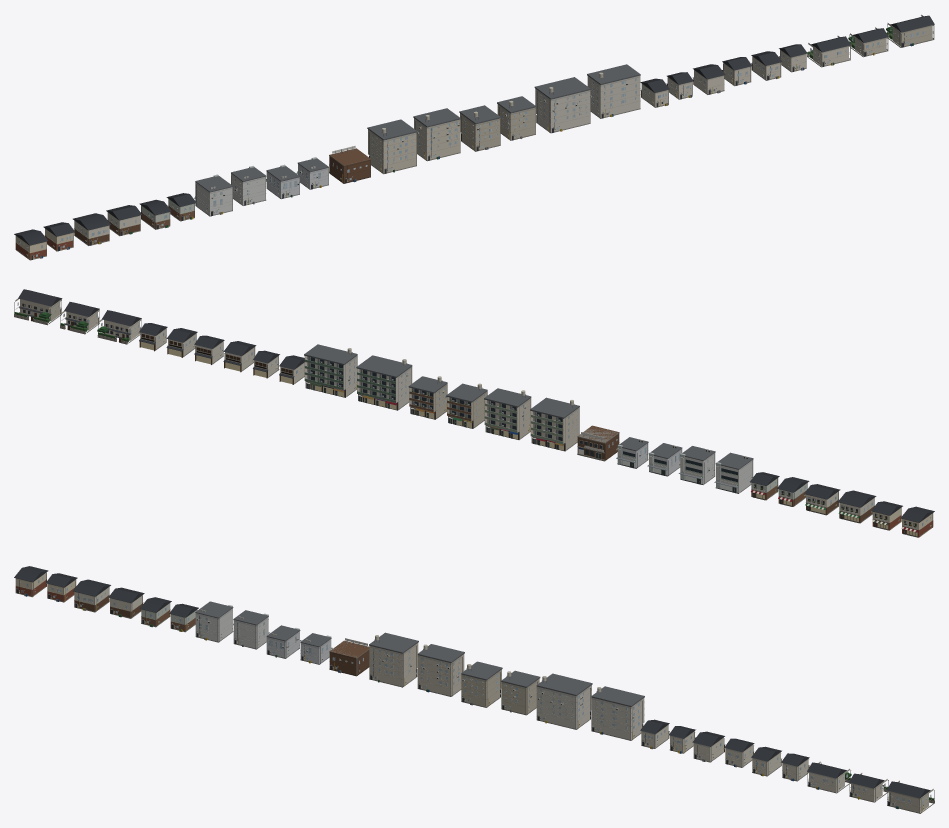
The model's file is aobafront.glb.
The picture shows the model from 3 angles, top to bottom: view 1: azimuth 30°, elevation 25°; view 2: azimuth 150°, elevation 25°; view 3: azimuth 330°, elevation 25°; orthographic projection.
Parts seen in each view (by area): view 1: aobafront_manshon_c_body, aobafront_manshon_c_p_body, aobafront_manshon_a_body, aobafront_manshon_a_p_body, aobafront_manshon_b_body, aobafront_manshon_b_p_body, aobafront_clinic_a_body, aobafront_kinko_a_body, aobafront_yashiki_c_body, aobafront_clinic_a_p_body, aobafront_yashiki_a_body, aobafront_pan_b_body (+14 smaller); view 2: aobafront_manshon_c_body, aobafront_manshon_c_p_body, aobafront_manshon_a_body, aobafront_manshon_a_p_body, aobafront_manshon_b_body, aobafront_manshon_b_p_body, aobafront_clinic_a_body, aobafront_yashiki_c_body, aobafront_kinko_a_body, aobafront_clinic_a_p_body, aobafront_yashiki_a_body, aobafront_pan_b_body (+14 smaller); view 3: aobafront_manshon_c_body, aobafront_manshon_c_p_body, aobafront_manshon_a_body, aobafront_manshon_a_p_body, aobafront_manshon_b_body, aobafront_manshon_b_p_body, aobafront_clinic_a_body, aobafront_kinko_a_body, aobafront_clinic_a_p_body, aobafront_yashiki_c_body, aobafront_yashiki_a_body, aobafront_pan_b_body (+14 smaller).
Boxes of the visible parts, box(x1,y1,x2,y2) form: aobafront_manshon_c_body: box(534, 77, 590, 133); aobafront_manshon_c_p_body: box(587, 64, 640, 118); aobafront_manshon_a_body: box(367, 119, 417, 174); aobafront_manshon_a_p_body: box(413, 108, 460, 161); aobafront_manshon_b_body: box(459, 105, 500, 151); aobafront_manshon_b_p_body: box(497, 96, 535, 140); aobafront_clinic_a_body: box(194, 174, 232, 216); aobafront_kinko_a_body: box(329, 145, 370, 183); aobafront_yashiki_c_body: box(886, 14, 934, 47); aobafront_clinic_a_p_body: box(231, 166, 266, 205); aobafront_yashiki_a_body: box(807, 35, 850, 67); aobafront_pan_b_body: box(73, 213, 110, 245); aobafront_manshon_c_body: box(356, 355, 412, 410); aobafront_manshon_c_p_body: box(304, 344, 357, 397); aobafront_manshon_a_body: box(530, 397, 579, 451); aobafront_manshon_a_p_body: box(484, 388, 531, 439); aobafront_manshon_b_body: box(446, 383, 487, 428); aobafront_manshon_b_p_body: box(408, 376, 447, 419); aobafront_clinic_a_body: box(714, 452, 753, 493); aobafront_yashiki_c_body: box(14, 289, 62, 325); aobafront_kinko_a_body: box(577, 425, 619, 461); aobafront_clinic_a_p_body: box(678, 446, 715, 484); aobafront_yashiki_a_body: box(97, 310, 141, 344); aobafront_pan_b_body: box(838, 490, 876, 523); aobafront_manshon_c_body: box(536, 673, 592, 729); aobafront_manshon_c_p_body: box(591, 686, 644, 740); aobafront_manshon_a_body: box(369, 632, 418, 687); aobafront_manshon_a_p_body: box(417, 644, 464, 696); aobafront_manshon_b_body: box(461, 661, 502, 707); aobafront_manshon_b_p_body: box(501, 670, 540, 715); aobafront_clinic_a_body: box(195, 601, 233, 642); aobafront_kinko_a_body: box(329, 638, 369, 676); aobafront_clinic_a_p_body: box(233, 610, 269, 649); aobafront_yashiki_c_body: box(886, 780, 934, 813); aobafront_yashiki_a_body: box(807, 761, 851, 793); aobafront_pan_b_body: box(73, 579, 110, 612).
Bounding box in the file's own units: 433 × 19.13 × 13.97.
